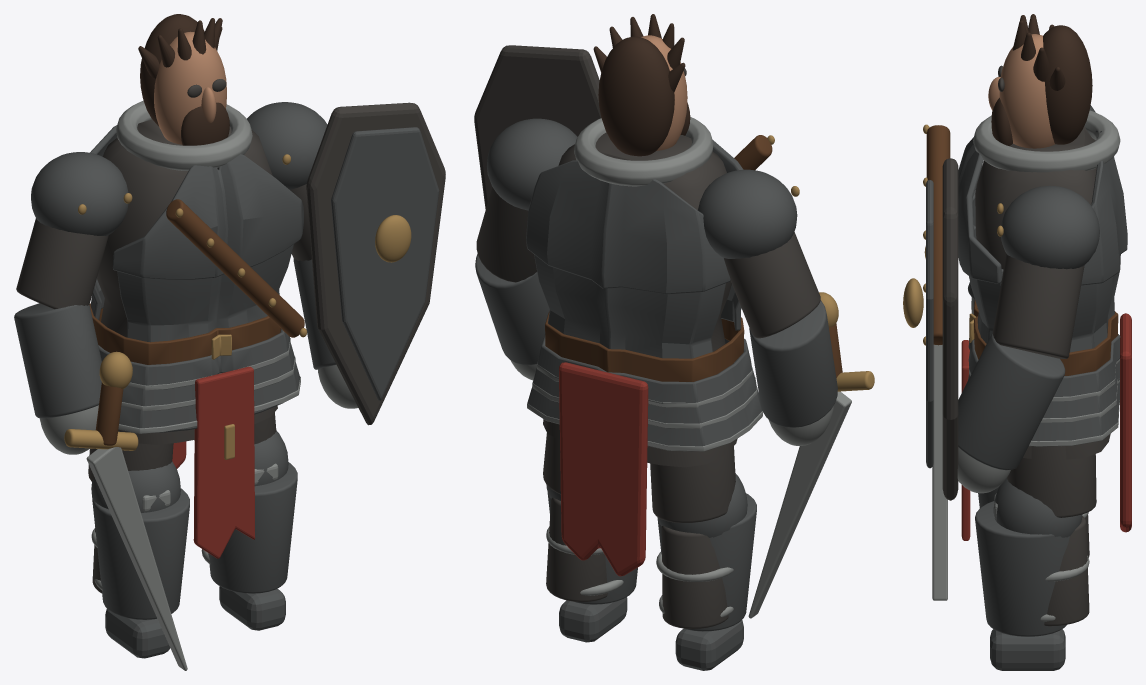
File: warrior-v3.glb
The picture shows the model from 3 angles, left to right: view 1: azimuth 30°, elevation 25°; view 2: azimuth 150°, elevation 25°; view 3: azimuth 270°, elevation 25°; orthographic projection. The views are drawn at different scales.
Parts seen in each view (by area): view 1: shield_field, cuirass_breastplate, kite_shield, tabard, cuirass_plackart, left_vambrace, left_greave, torso_underlayer, left_pauldron, right_greave, left_upper_arm, sword_blade (+26 smaller); view 2: cuirass_backplate, rear_tabard, cuirass_culet, kite_shield, left_vambrace, hair_back, left_pauldron, left_upper_arm, belt, left_shin, right_pauldron, left_thigh (+24 smaller); view 3: right_vambrace, right_greave, right_upper_arm, right_pauldron, kite_shield, torso_underlayer, right_thigh, hair_back, gorget, head, cuirass_backplate, sword_blade (+23 smaller).
Part boxes in pixels (x1=…): shield_field: x1=331, y1=127, x2=439, y2=400; cuirass_breastplate: x1=113, y1=154, x2=303, y2=279; kite_shield: x1=306, y1=102, x2=445, y2=425; tabard: x1=193, y1=366, x2=255, y2=558; cuirass_plackart: x1=117, y1=244, x2=293, y2=342; left_vambrace: x1=14, y1=303, x2=101, y2=418; left_greave: x1=92, y1=488, x2=189, y2=619; torso_underlayer: x1=97, y1=119, x2=272, y2=337; left_pauldron: x1=31, y1=152, x2=128, y2=235; right_greave: x1=208, y1=462, x2=297, y2=593; left_upper_arm: x1=16, y1=218, x2=108, y2=309; sword_blade: x1=86, y1=447, x2=187, y2=670; cuirass_backplate: x1=526, y1=160, x2=730, y2=294; rear_tabard: x1=559, y1=362, x2=648, y2=576; cuirass_culet: x1=534, y1=254, x2=725, y2=358; kite_shield: x1=474, y1=45, x2=601, y2=209; left_vambrace: x1=749, y1=300, x2=837, y2=427; hair_back: x1=598, y1=36, x2=674, y2=156; left_pauldron: x1=697, y1=169, x2=797, y2=258; left_upper_arm: x1=724, y1=232, x2=820, y2=338; belt: x1=545, y1=311, x2=744, y2=381; left_shin: x1=661, y1=526, x2=728, y2=628; right_pauldron: x1=487, y1=118, x2=577, y2=210; left_thigh: x1=650, y1=442, x2=735, y2=522; right_vambrace: x1=958, y1=333, x2=1065, y2=470; right_greave: x1=975, y1=501, x2=1069, y2=636; right_upper_arm: x1=992, y1=254, x2=1084, y2=358; right_pauldron: x1=1001, y1=185, x2=1099, y2=269; kite_shield: x1=942, y1=158, x2=958, y2=500; torso_underlayer: x1=975, y1=126, x2=1096, y2=269; right_thigh: x1=1007, y1=446, x2=1096, y2=517; hair_back: x1=1043, y1=25, x2=1092, y2=144; gorget: x1=973, y1=110, x2=1120, y2=172; head: x1=999, y1=34, x2=1054, y2=148; cuirass_backplate: x1=1081, y1=130, x2=1127, y2=285; sword_blade: x1=932, y1=344, x2=947, y2=600.
Bounding box in the file's own units: 1.29 × 1.98 × 0.6655.
